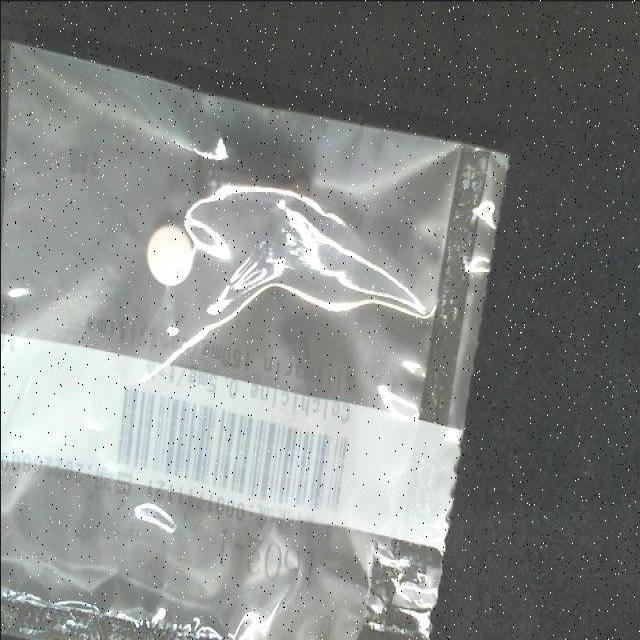pill: (146, 225, 194, 287)
